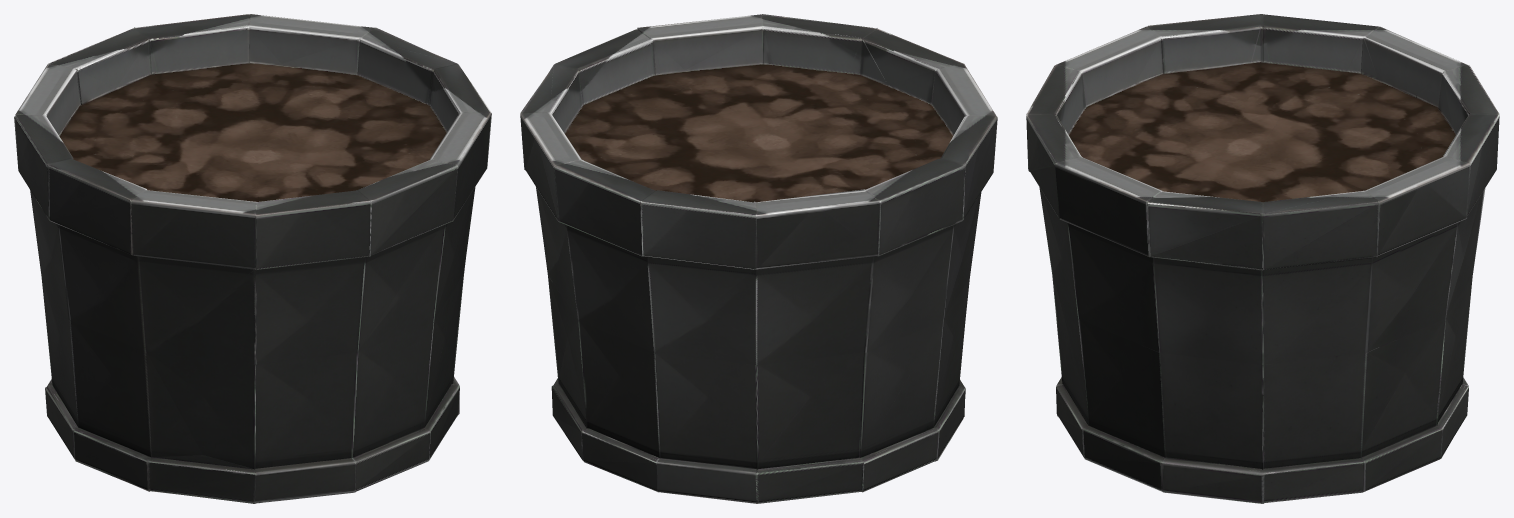
File: pot-empty.glb
3 renders of one model, left to right at view 1: azimuth 30°, elevation 25°; view 2: azimuth 150°, elevation 25°; view 3: azimuth 270°, elevation 25°, orthographic.
Size of the model in its own units: 1 by 0.7109 by 1.
1 material, 1 textured.
